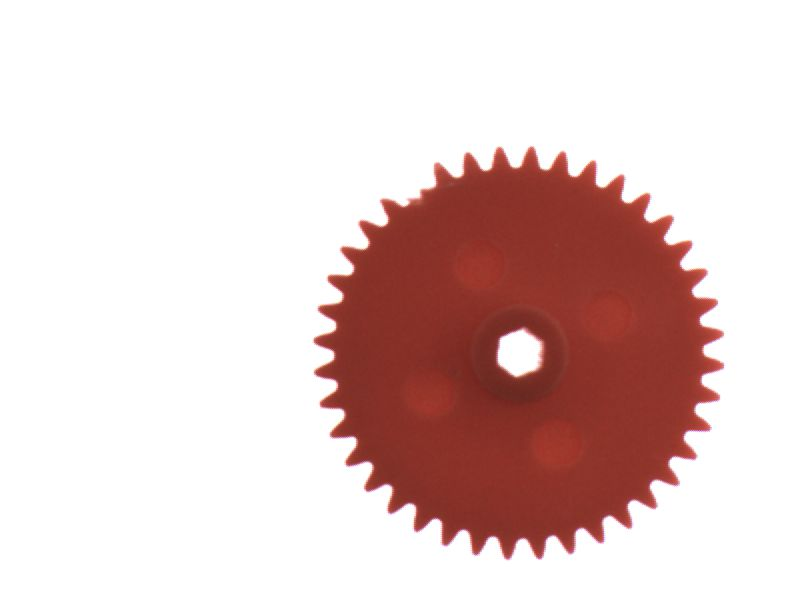defect_lack: (382, 159, 444, 215)
